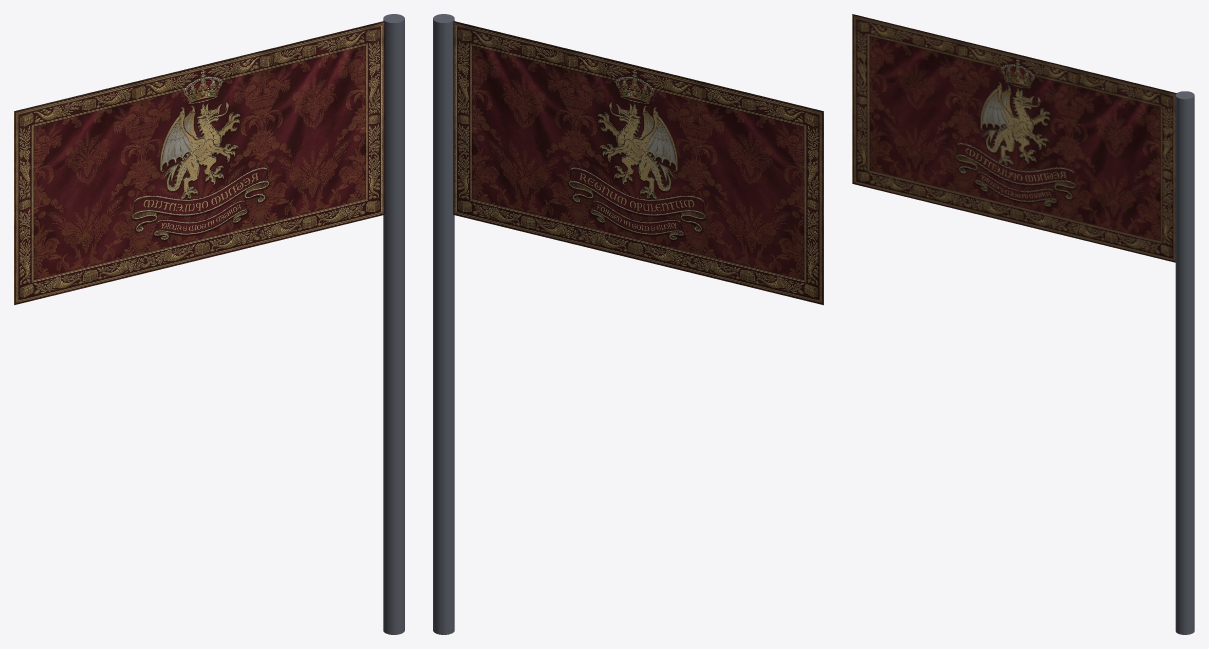
File: Flag.fbx
The picture shows the model from 3 angles, left to right: view 1: azimuth 30°, elevation 25°; view 2: azimuth 150°, elevation 25°; view 3: azimuth 330°, elevation 25°; orthographic projection. The views are drawn at different scales.
Parts seen in each view (by area): view 1: Flag; view 2: Flag; view 3: Flag.
Boxes of the visible parts, left/top/right/bottom form: Flag: left=14, top=14, right=404, bottom=634; Flag: left=433, top=14, right=823, bottom=634; Flag: left=852, top=14, right=1194, bottom=634.
Size of the model in its own units: 420 by 631 by 20.3.
2 materials, 1 textured.
